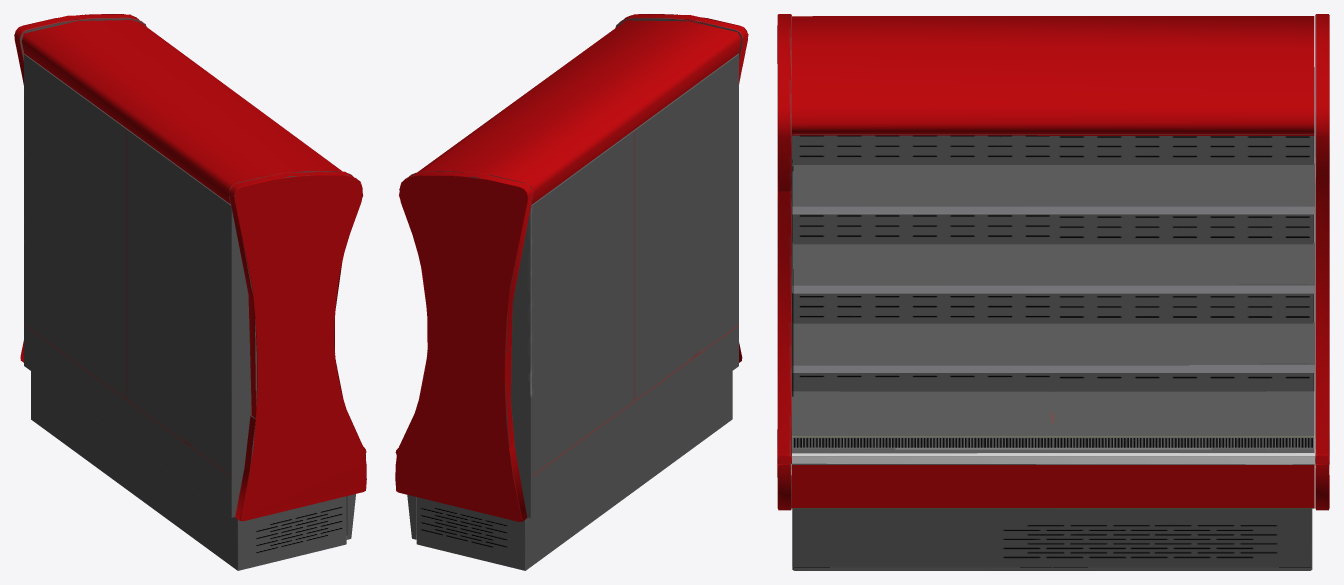
The model's file is HeladeraGrande.fbx.
3 views of the same model, side by side, from view 1: azimuth 30°, elevation 25°; view 2: azimuth 150°, elevation 25°; view 3: azimuth 270°, elevation 25° (orthographic). The views are drawn at different scales.
Parts seen in each view (by area): view 1: export.004; view 2: export.004; view 3: export.004.
Part boxes in pixels (x1,y1,x2,y2): export.004: [14, 14, 366, 570]; export.004: [395, 14, 748, 570]; export.004: [777, 14, 1329, 570].
Bounding box in the file's own units: 64.71 × 181 × 186.
